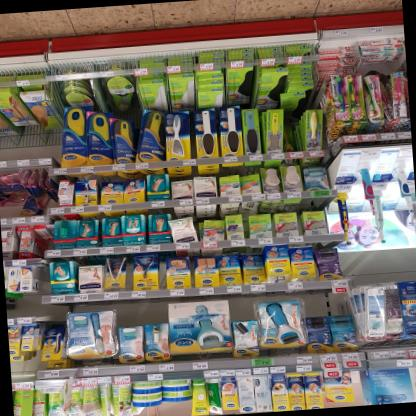empty_space: (321, 39, 356, 57)
